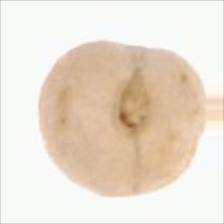L3: (115, 68, 153, 136)
L4: (39, 40, 206, 196)
